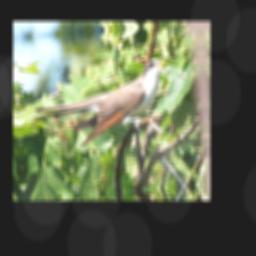Cuckoo: (28, 57, 171, 152)
